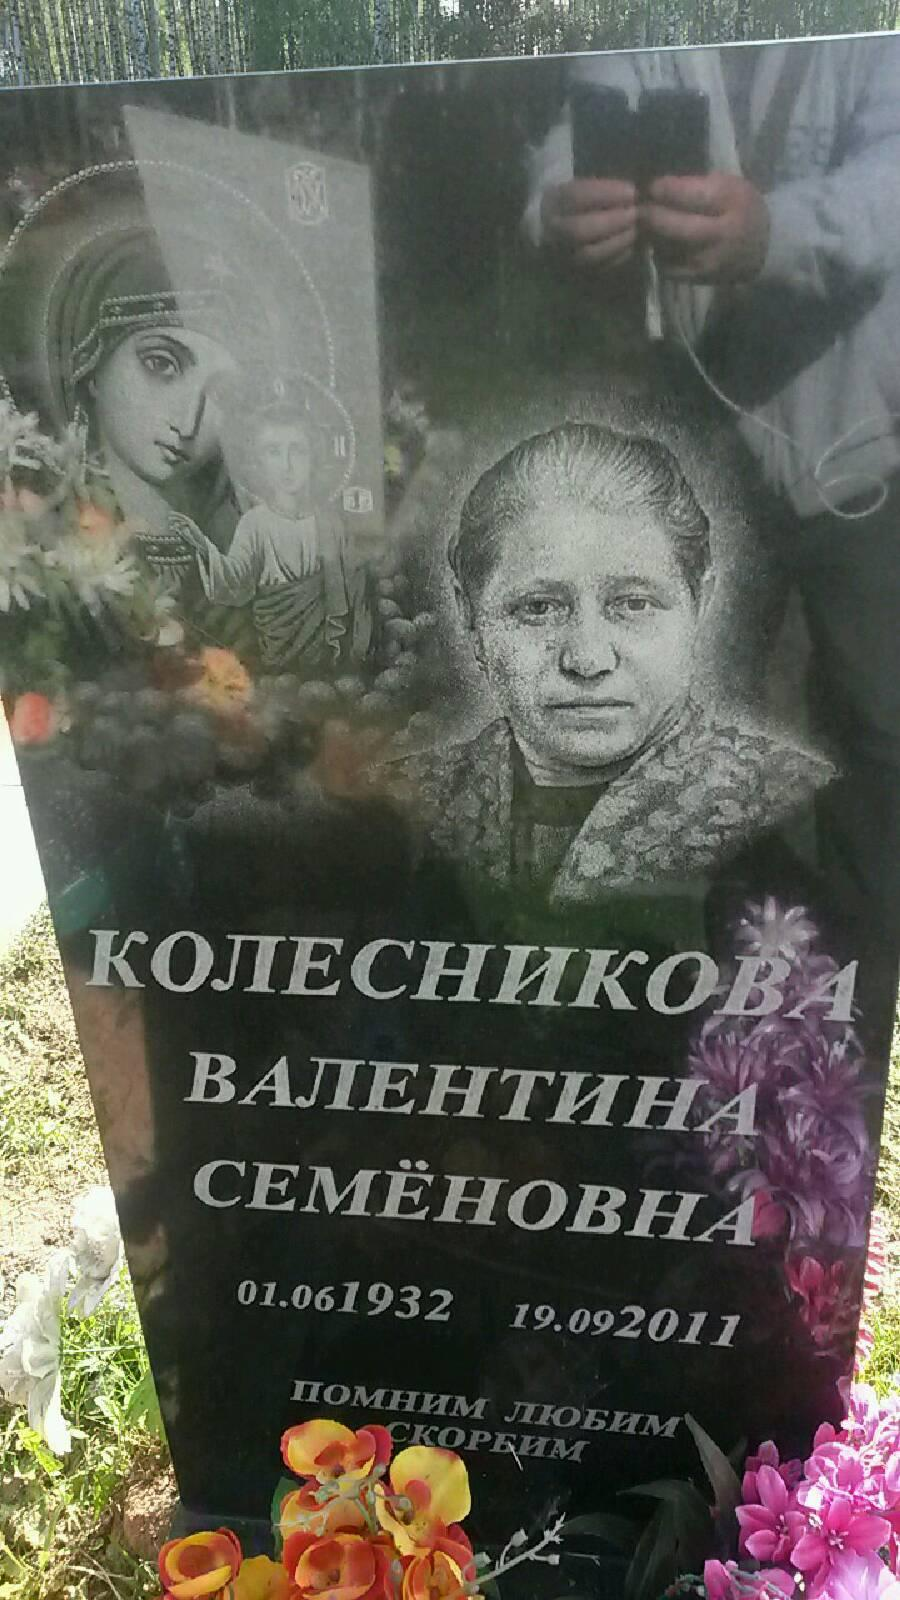upright: (12, 12, 888, 1580)
